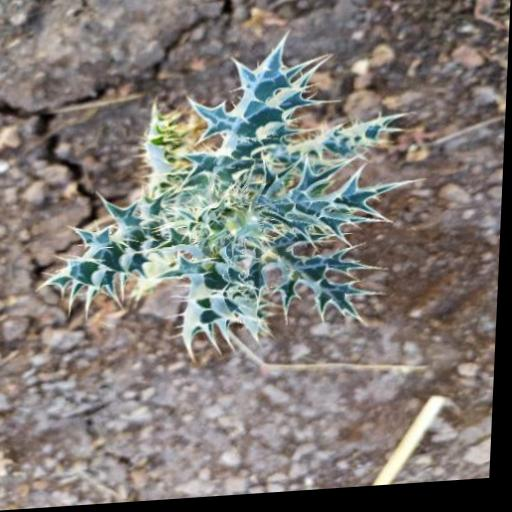weed: (40, 34, 433, 364)
